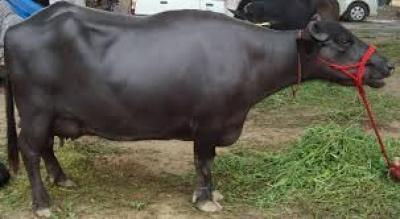buffalo: (4, 0, 370, 215), (362, 48, 394, 87)
